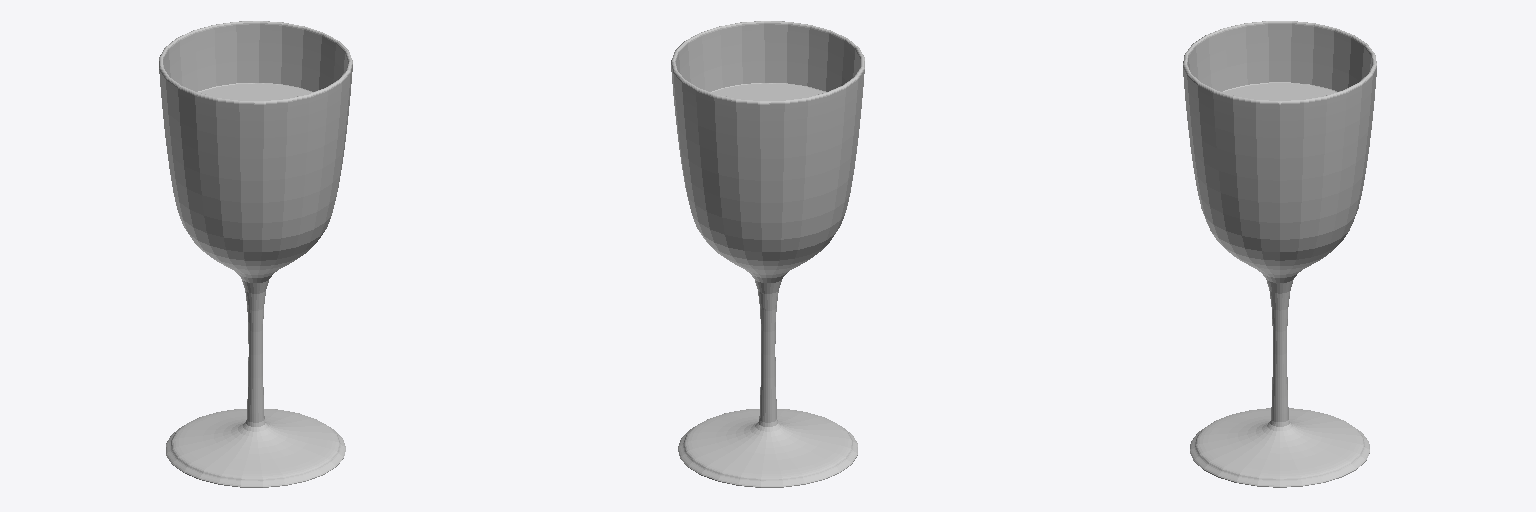
File: glass_wine.obj
The picture shows the model from 3 angles: view 1: azimuth 30°, elevation 25°; view 2: azimuth 150°, elevation 25°; view 3: azimuth 270°, elevation 25°; orthographic projection.
Parts seen in each view (by area): view 1: Line01, liquid; view 2: Line01, liquid; view 3: Line01, liquid.
Part boxes in pixels (left/top/right/bottom): Line01: left=159, top=21, right=352, bottom=487; liquid: left=198, top=83, right=312, bottom=100; Line01: left=671, top=21, right=864, bottom=487; liquid: left=711, top=83, right=825, bottom=100; Line01: left=1183, top=21, right=1376, bottom=487; liquid: left=1223, top=82, right=1336, bottom=100.
Bounding box in the file's own units: 1.61 × 3.56 × 1.61.